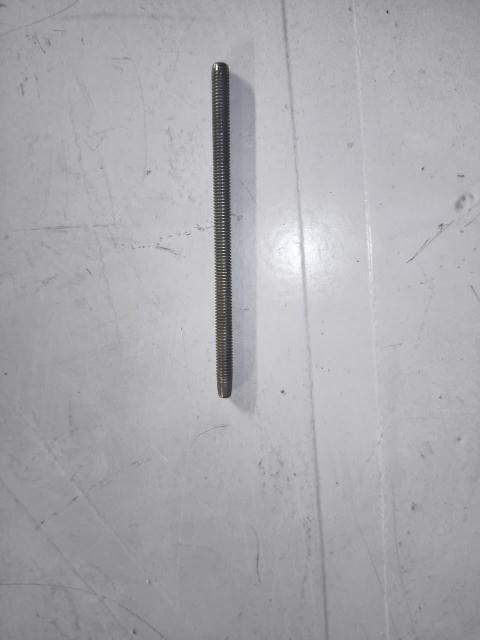Metal: (200, 55, 252, 398)
